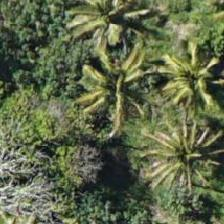coconut_tree: (44, 25, 134, 115), (127, 13, 217, 103), (135, 102, 223, 192)
